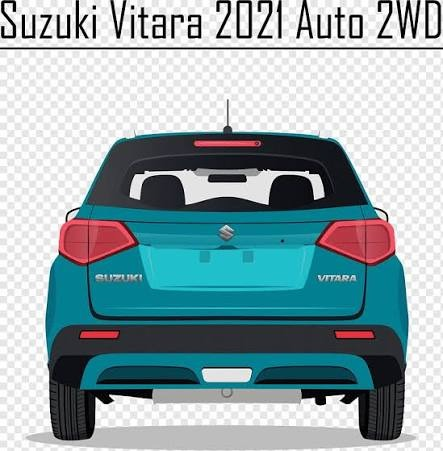car: (46, 124, 402, 443)
